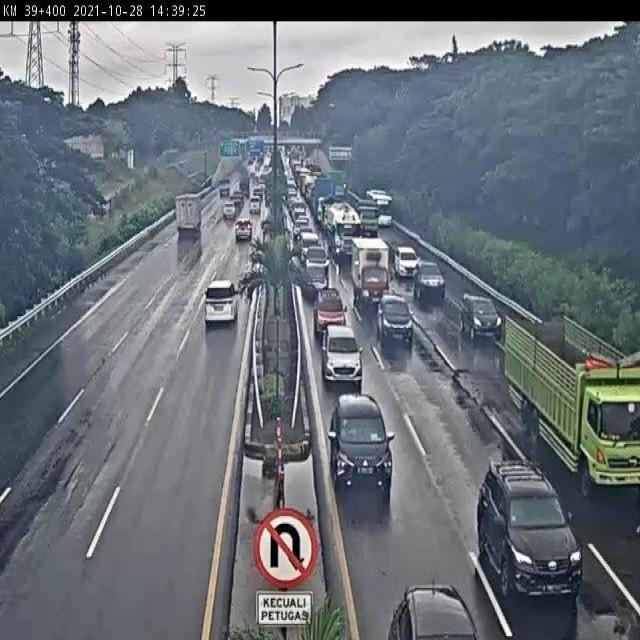big truck: (485, 296, 640, 489), (324, 200, 362, 265)
car: (471, 454, 585, 598), (366, 553, 487, 640), (326, 387, 399, 502), (193, 259, 244, 341), (315, 319, 366, 384), (458, 285, 505, 347), (372, 286, 417, 346), (308, 284, 352, 339), (413, 256, 450, 308), (390, 240, 417, 279), (231, 216, 257, 248), (246, 196, 264, 220), (217, 204, 237, 223)
small truck: (343, 234, 397, 314), (167, 190, 203, 246)
